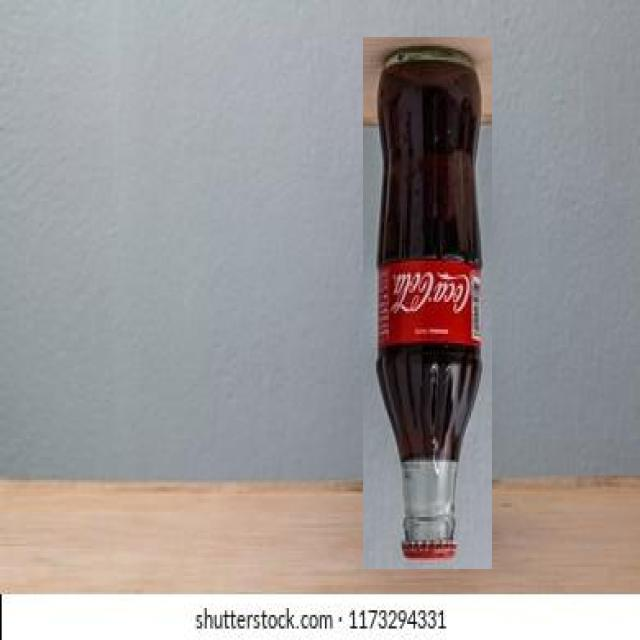coca-cola: (363, 37, 492, 569)
